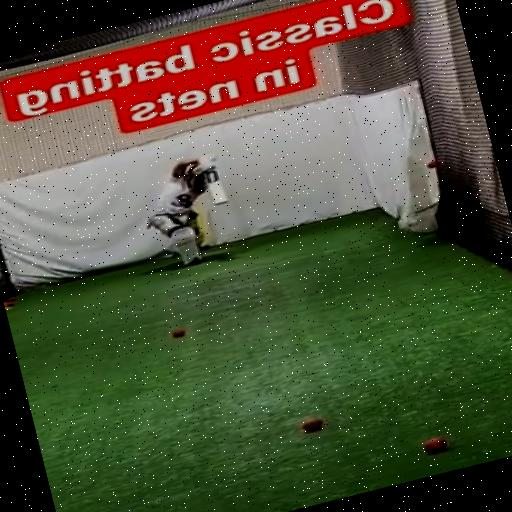Cricket bat: (206, 170, 229, 204)
